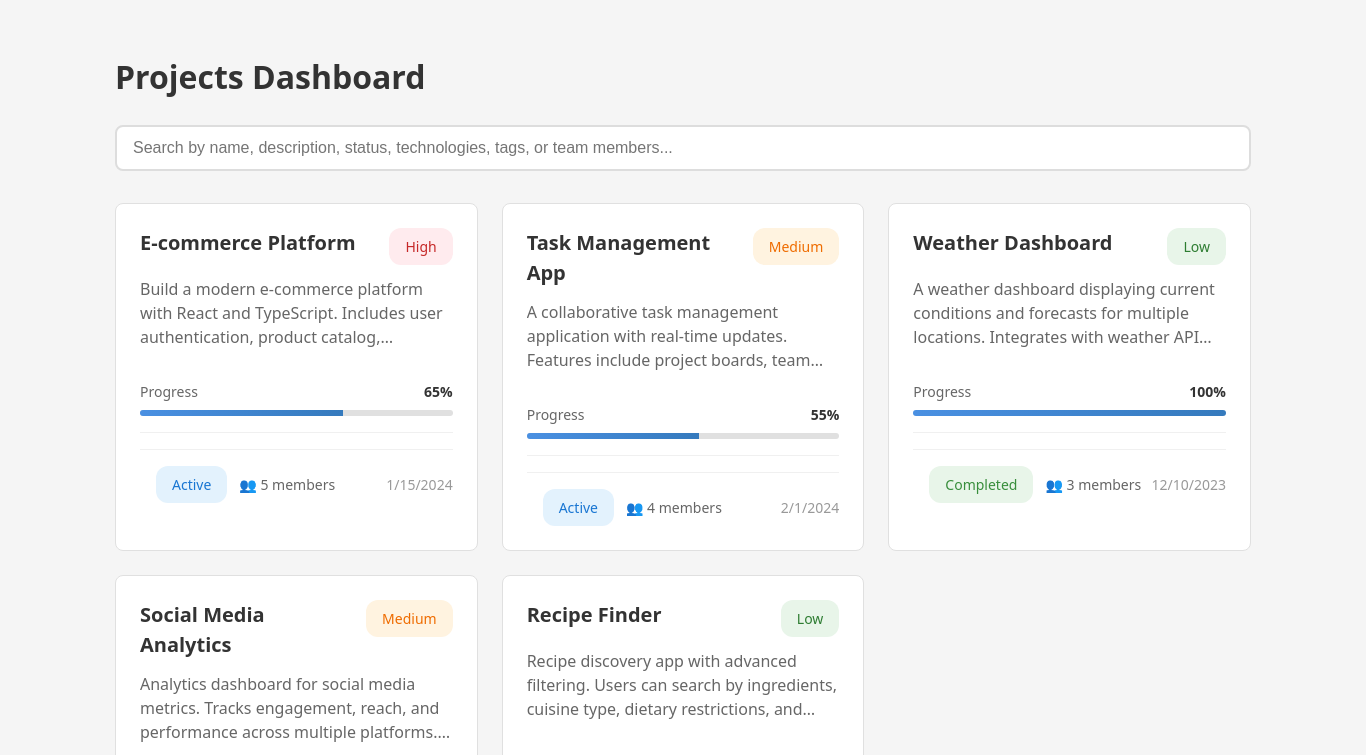
Test: ProjectsList › filters projects based on search query
The width and height of the screenshot is (1366, 755).
Expected: the heading "E-commerce Platform" is shown, [140,228,381,258]
Type in search input
Type "e-commerce" into the field named "Search projects" at (683,148), box [115,125,1251,171]
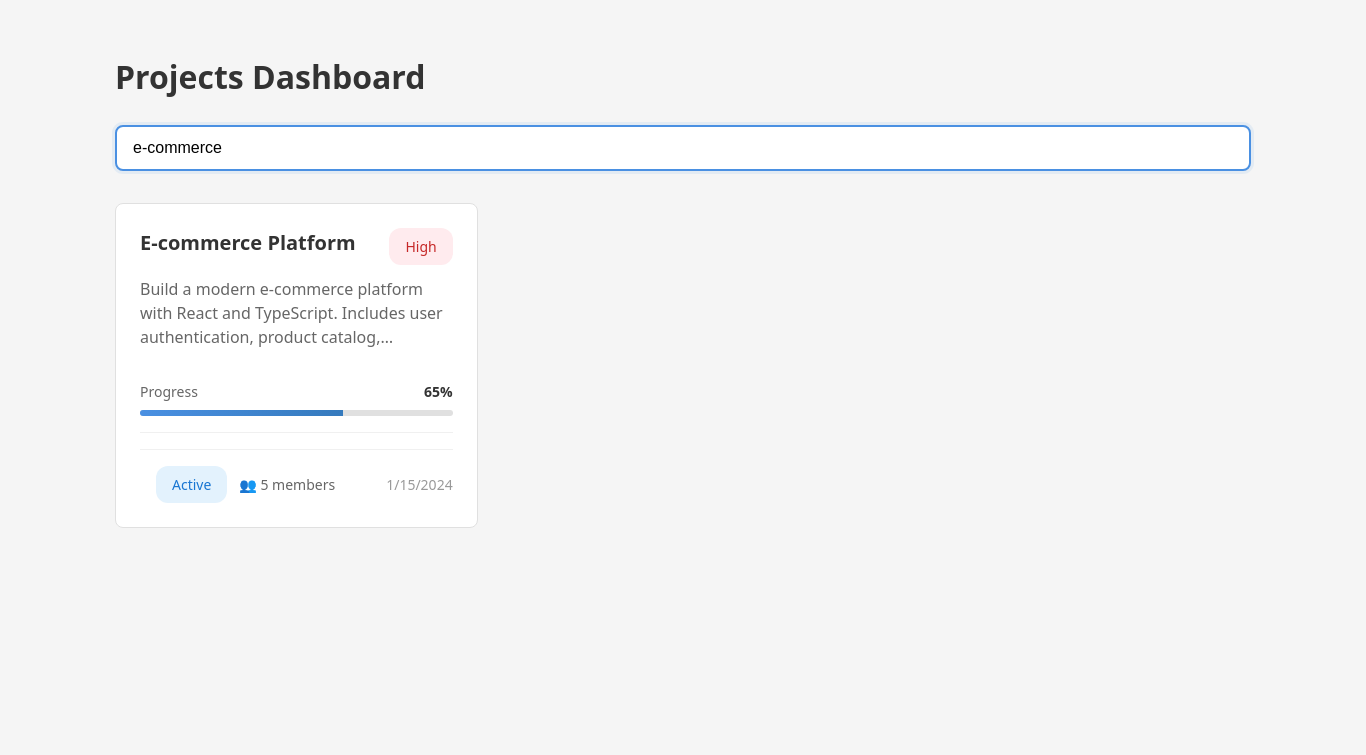
Expected: the heading "E-commerce Platform" is shown, [140,228,381,258]
Now the link "Task Management App" is gone
